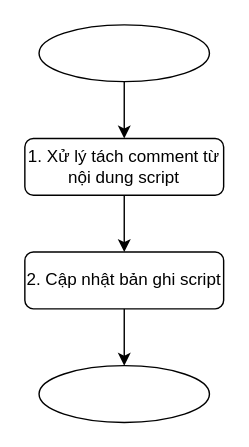
Some shapes in this 249 by 447 pixel diagram are drawn without their labels. Here are the shapes that lost their labels. From the top down, the centre of each, then its label:
At point (123, 52): "Bắt đầu".
At point (123, 393): "Kết thúc".
